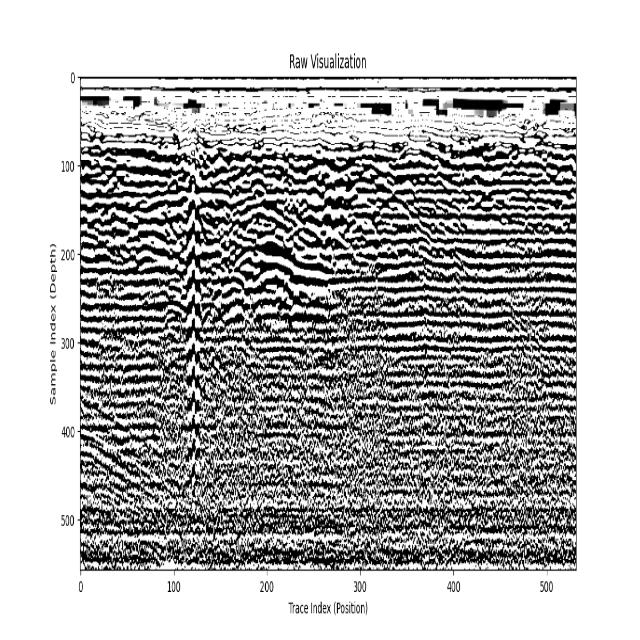anomaly: (82, 377, 255, 566), (186, 162, 209, 524)
